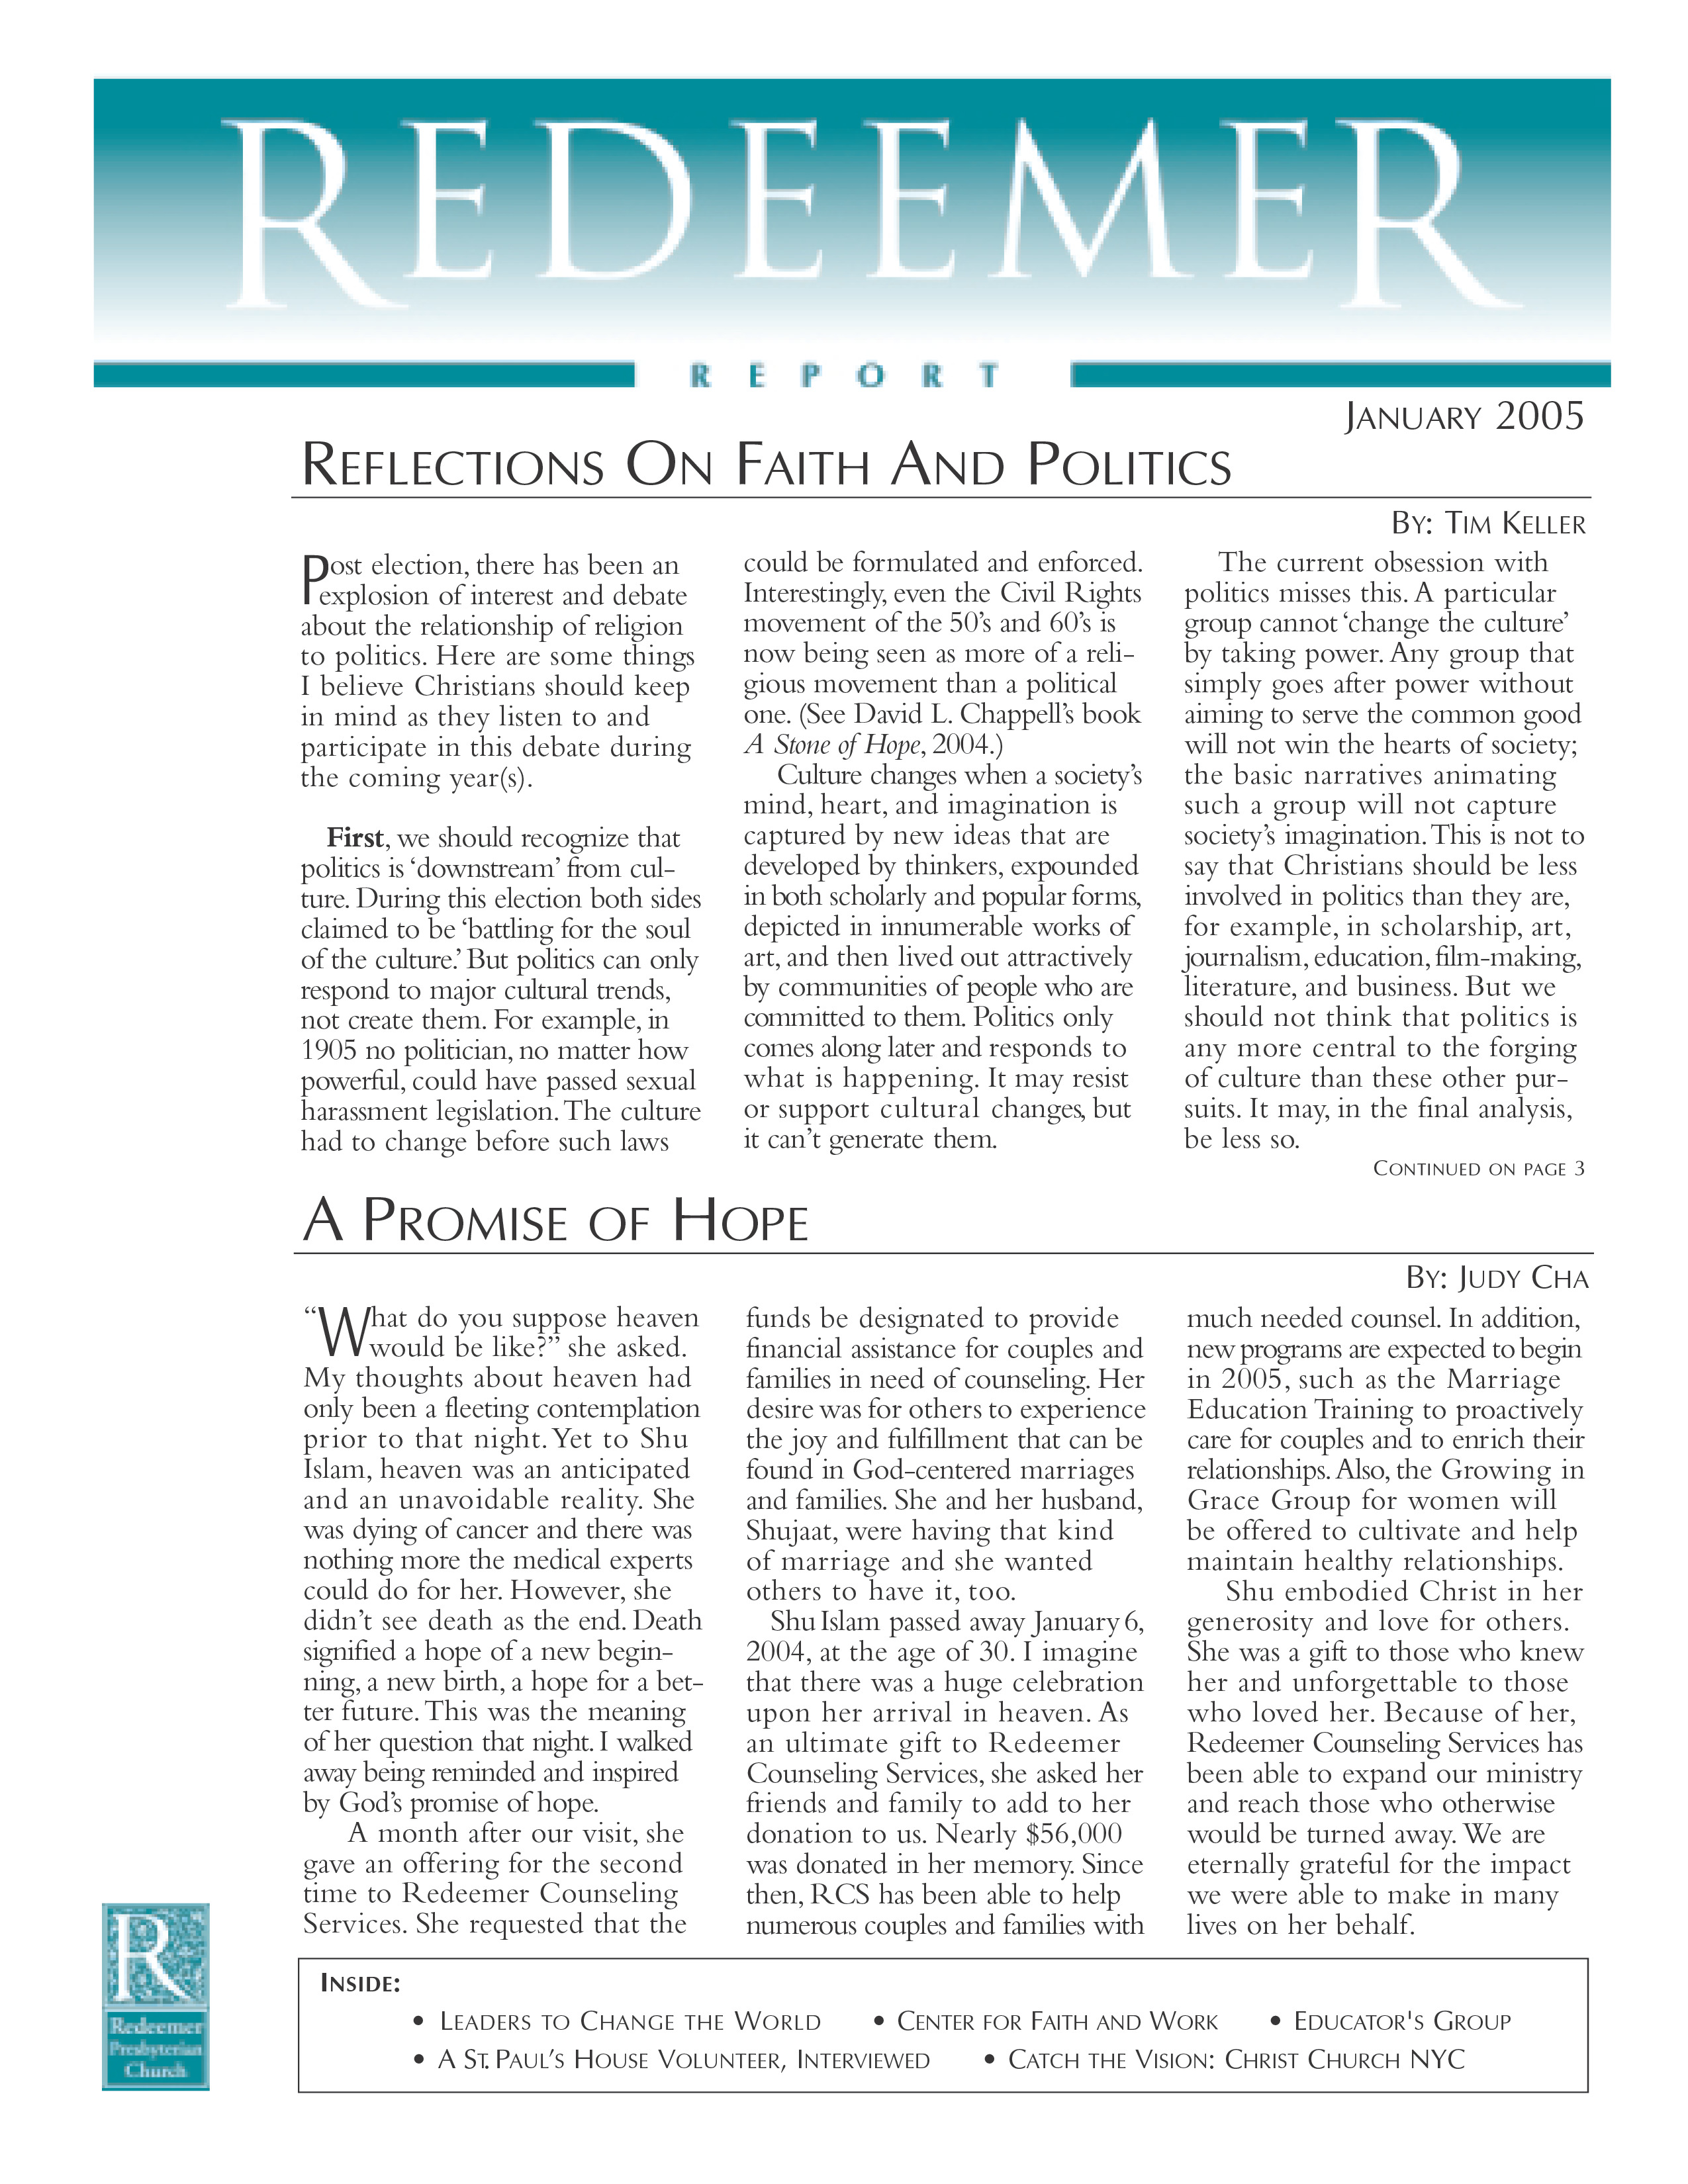figure: (94, 1902, 202, 2094)
section: (215, 112, 1514, 317), (298, 440, 1236, 496)
text: (1184, 558, 1571, 1152), (296, 1305, 702, 1812), (750, 773, 1133, 1154), (1184, 1590, 1589, 1941), (741, 1620, 1145, 1943), (305, 831, 699, 1161), (745, 1315, 1145, 1606), (1184, 1308, 1589, 1581), (301, 555, 697, 801), (745, 562, 1145, 760), (296, 1828, 699, 1941), (296, 1197, 812, 1241), (986, 2042, 1466, 2078), (413, 2010, 824, 2040), (417, 2053, 933, 2072), (869, 2010, 1225, 2033), (1270, 2005, 1523, 2037), (1339, 404, 1578, 436), (686, 365, 1000, 388), (1385, 507, 1585, 539), (1399, 1264, 1585, 1292), (314, 1969, 404, 1994)
